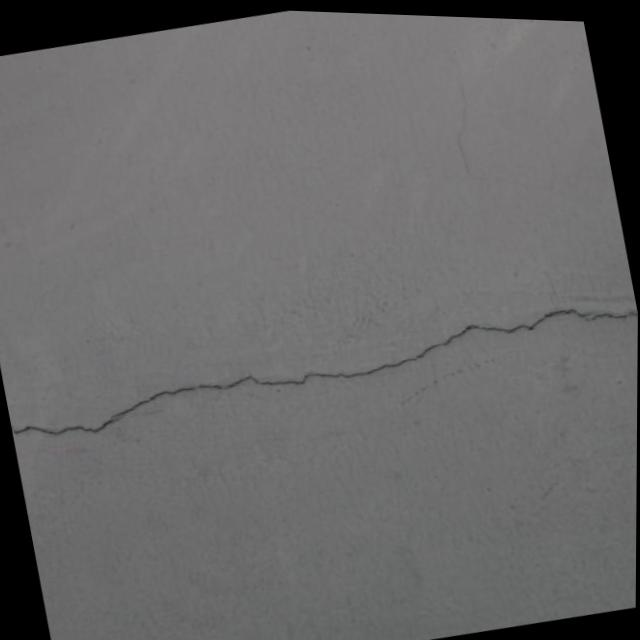Crack: (0, 241, 639, 479)
